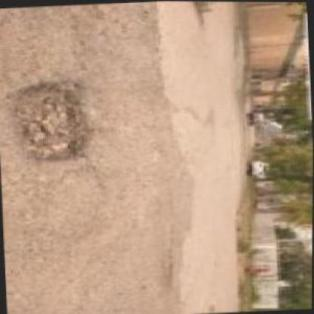Hueco: (7, 78, 96, 165)
